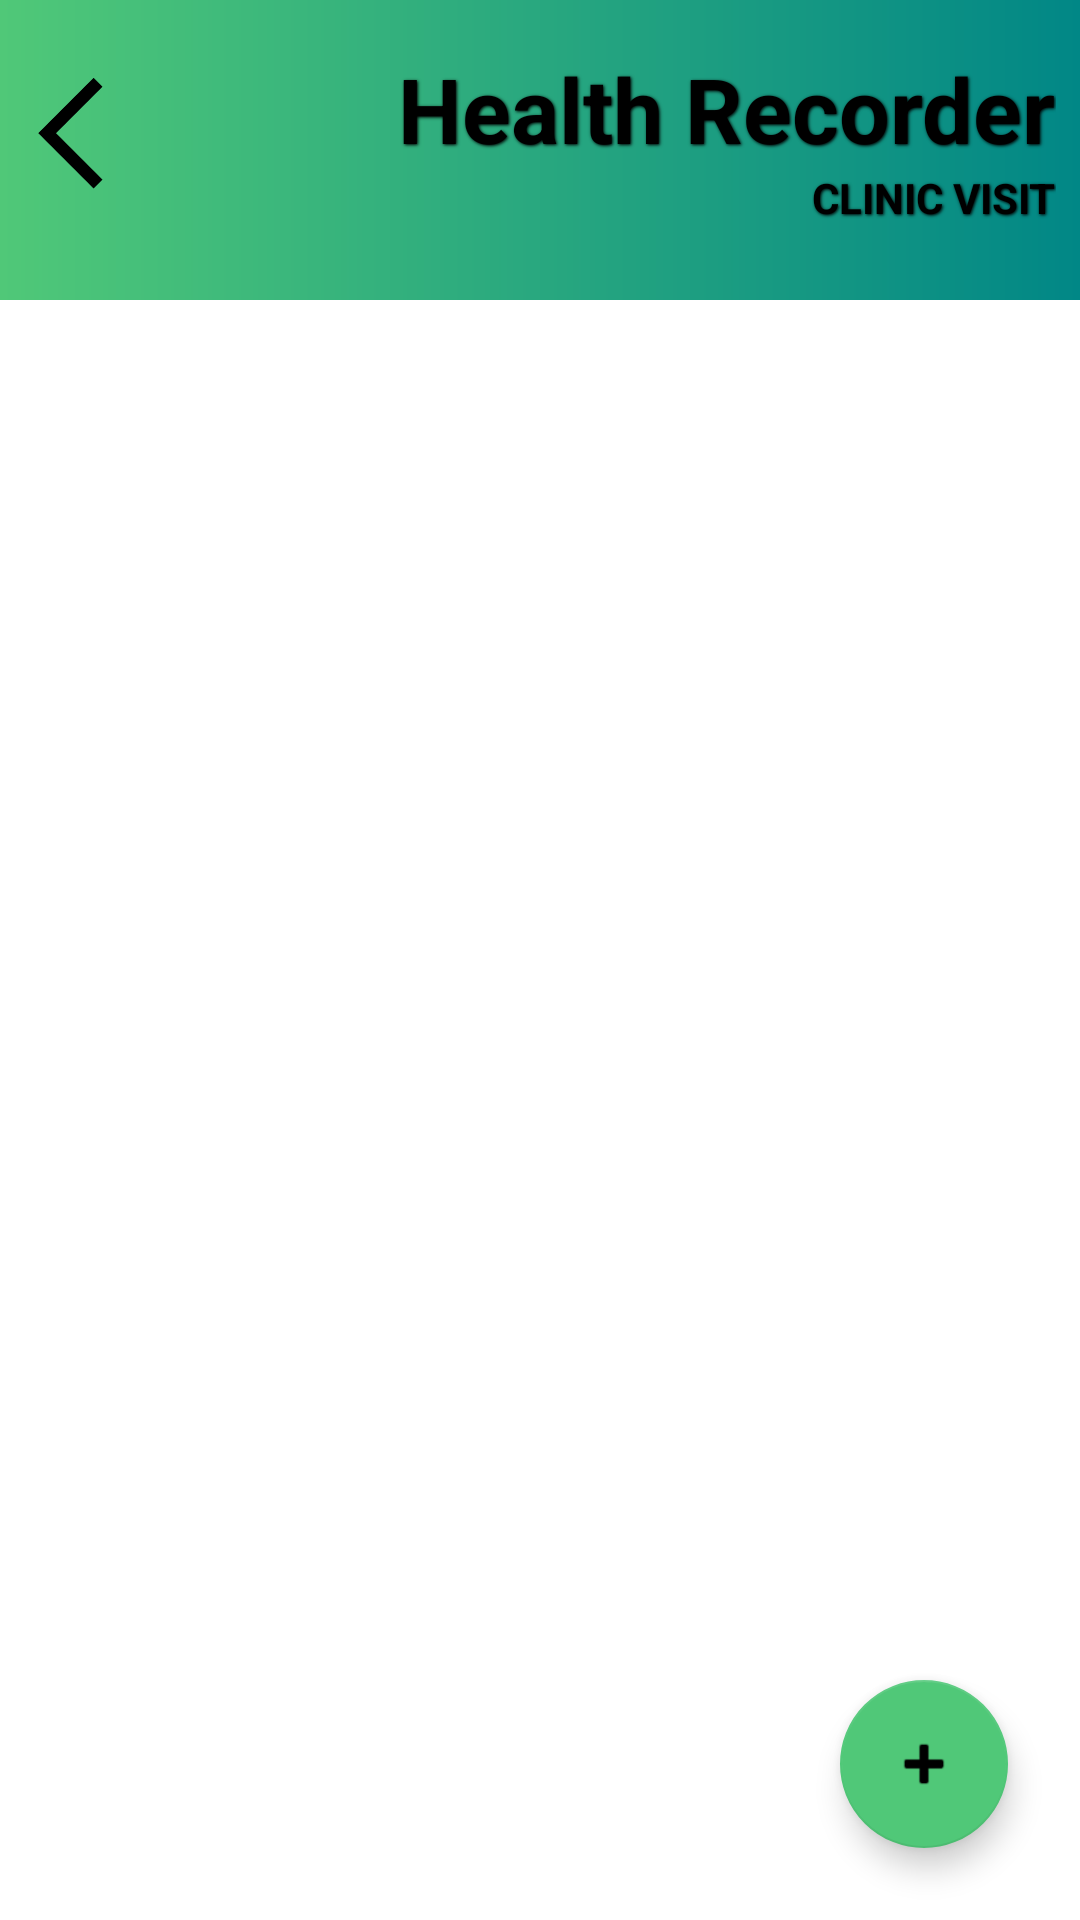

Named icons in this screenshot (1080w x 1920h) and their bounding boxes, bbox(x1, y1, x2, y2):
add: bbox(840, 1680, 1008, 1848)
backbutton: bbox(38, 78, 103, 189)
